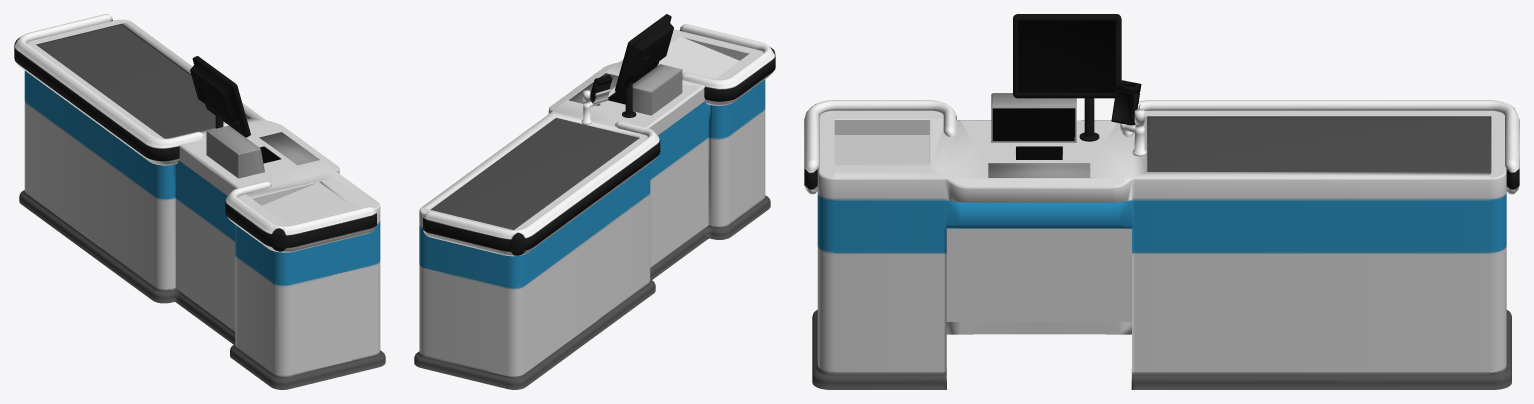
Rendered from pos2b.fbx.
The picture shows the model from 3 angles, left to right: view 1: azimuth 30°, elevation 25°; view 2: azimuth 150°, elevation 25°; view 3: azimuth 270°, elevation 25°; orthographic projection. The views are drawn at different scales.
Parts seen in each view (by area): view 1: body_skin_body_0.002, body_skin_body_0.004, body_skin_body_0.005; view 2: body_skin_body_0.002, body_skin_body_0.004, body_skin_body_0.005, body_skin_body_0.006; view 3: body_skin_body_0.002, body_skin_body_0.004, body_skin_body_0.005, body_skin_body_0.006.
Boxes of the visible parts, x1,y1,x2,y2 form: body_skin_body_0.002: (19,19,385,389); body_skin_body_0.004: (14,14,376,252); body_skin_body_0.005: (190,56,250,137); body_skin_body_0.002: (414,29,770,389); body_skin_body_0.004: (423,24,775,256); body_skin_body_0.005: (615,14,673,93); body_skin_body_0.006: (581,75,612,124); body_skin_body_0.002: (812,110,1511,389); body_skin_body_0.004: (804,93,1519,194); body_skin_body_0.005: (1013,14,1121,98); body_skin_body_0.006: (1111,80,1146,156).
Size of the model in its own units: 27.08 by 50.79 by 102.
2 materials, 2 textured.
